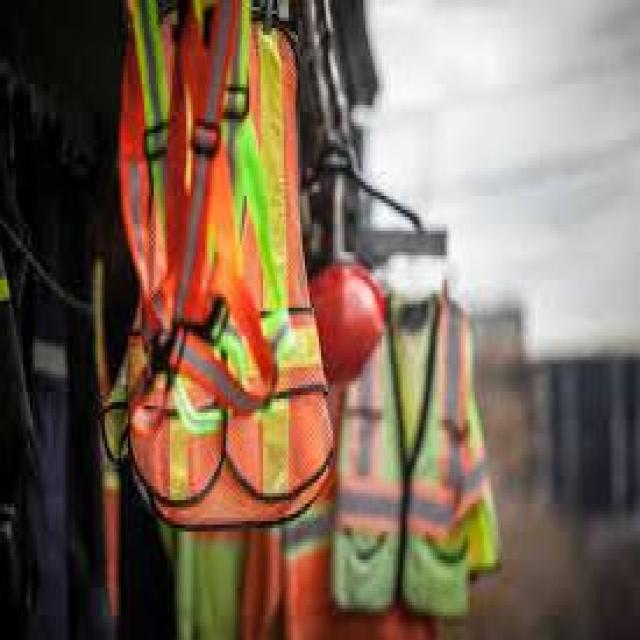Reflective-Jacket: (105, 1, 349, 611), (305, 273, 512, 629)
